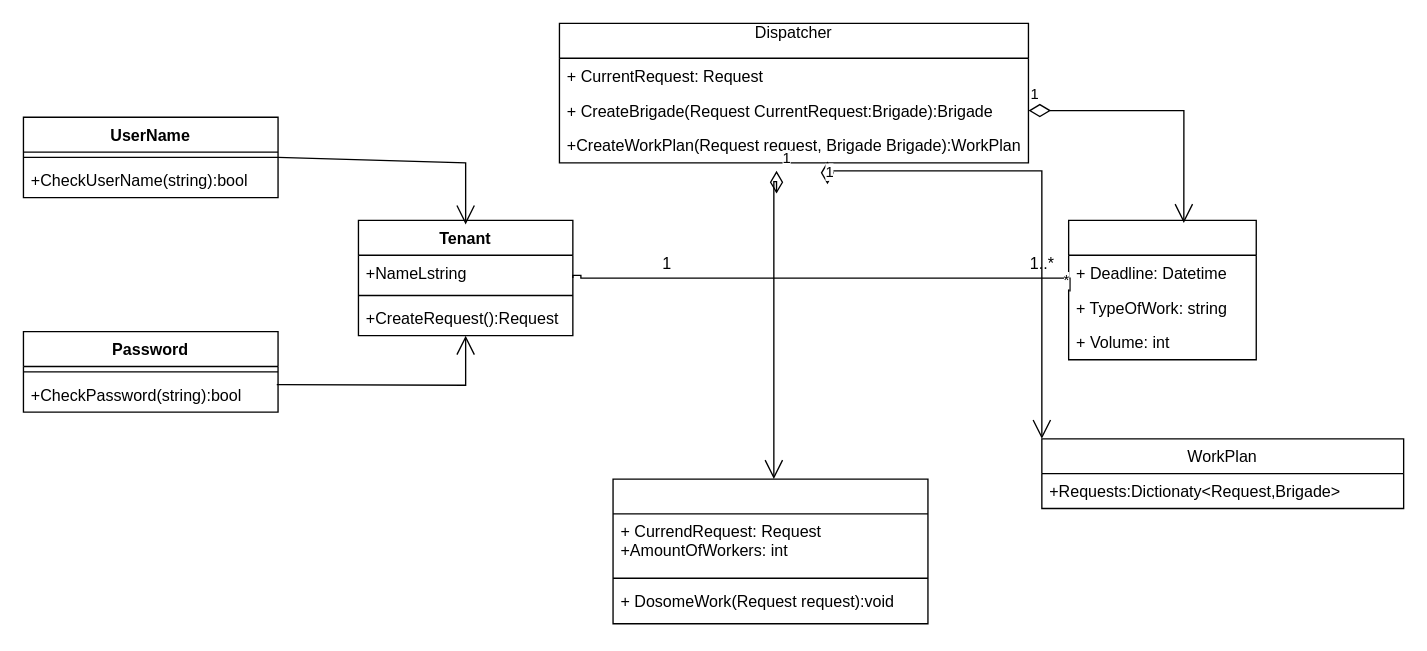
The diagram is 1427 pixels wide and 651 high, and some of its shapes have lost their labels. The box of each missing label's shape, as (x1, y1, x2, y2) in pixels:
Brigade: (612, 478, 928, 624)
Request: (1067, 219, 1256, 360)
